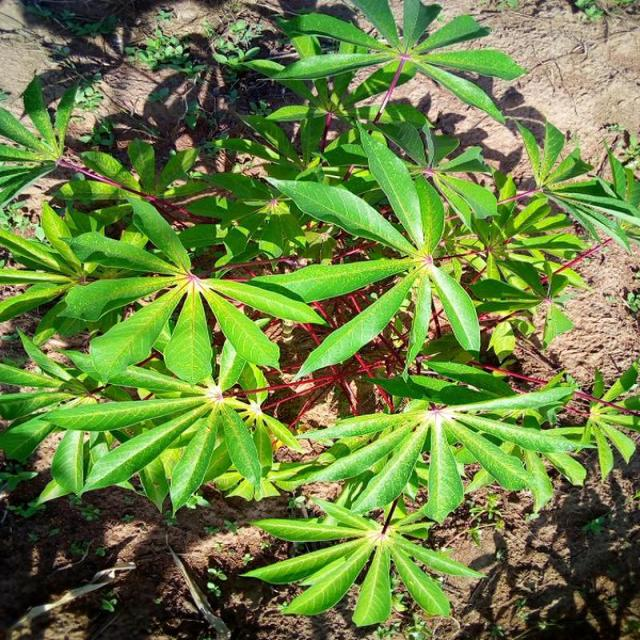cassava leaf: (1, 2, 637, 627), (251, 120, 484, 380)
